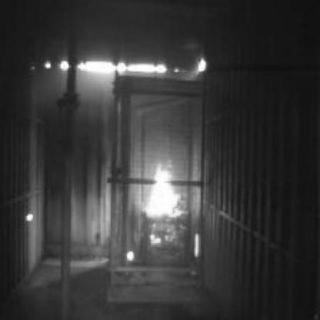Fire: (142, 164, 188, 254)
other: (36, 58, 210, 75)
